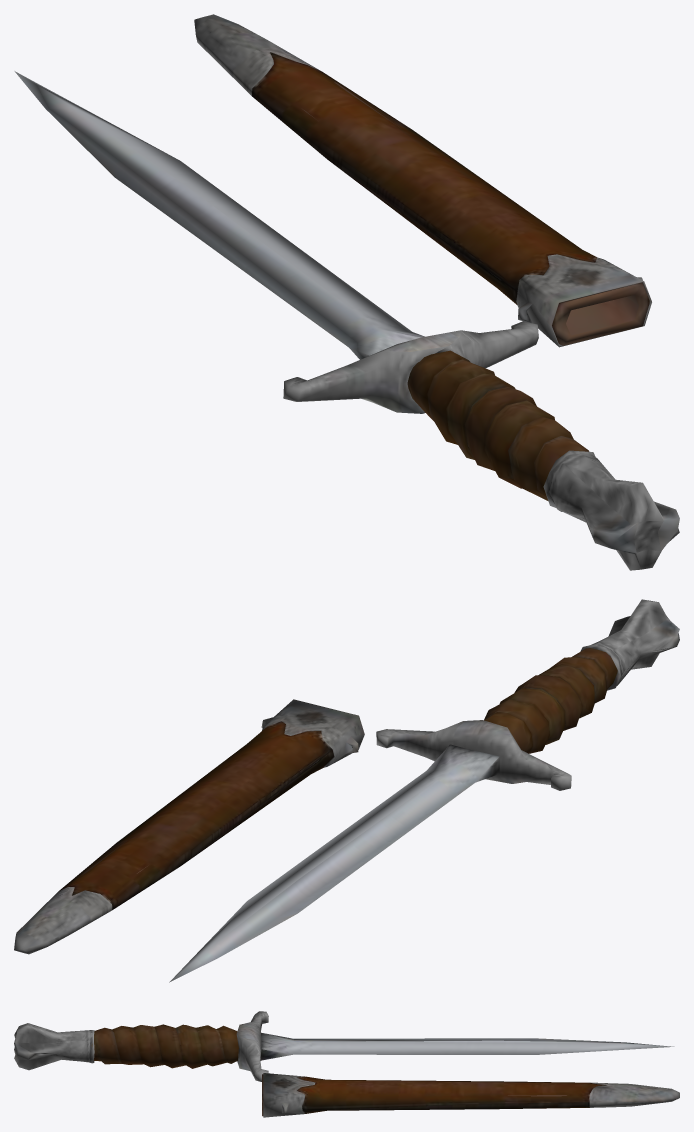
The model's file is ornate_dagger.glb.
3 renders of one model, top to bottom at view 1: azimuth 30°, elevation 25°; view 2: azimuth 150°, elevation 25°; view 3: azimuth 270°, elevation 25°, orthographic. The views are drawn at different scales.
Visible parts, largest first — view 1: ornate_dagger; view 2: ornate_dagger; view 3: ornate_dagger.
Part boxes in pixels (bbox=[...]): ornate_dagger: bbox=[14, 14, 679, 570]; ornate_dagger: bbox=[14, 599, 679, 982]; ornate_dagger: bbox=[14, 1011, 679, 1117].
Size of the model in its own units: 0.1203 by 0.0256 by 0.3493.
1 material, 1 textured.
